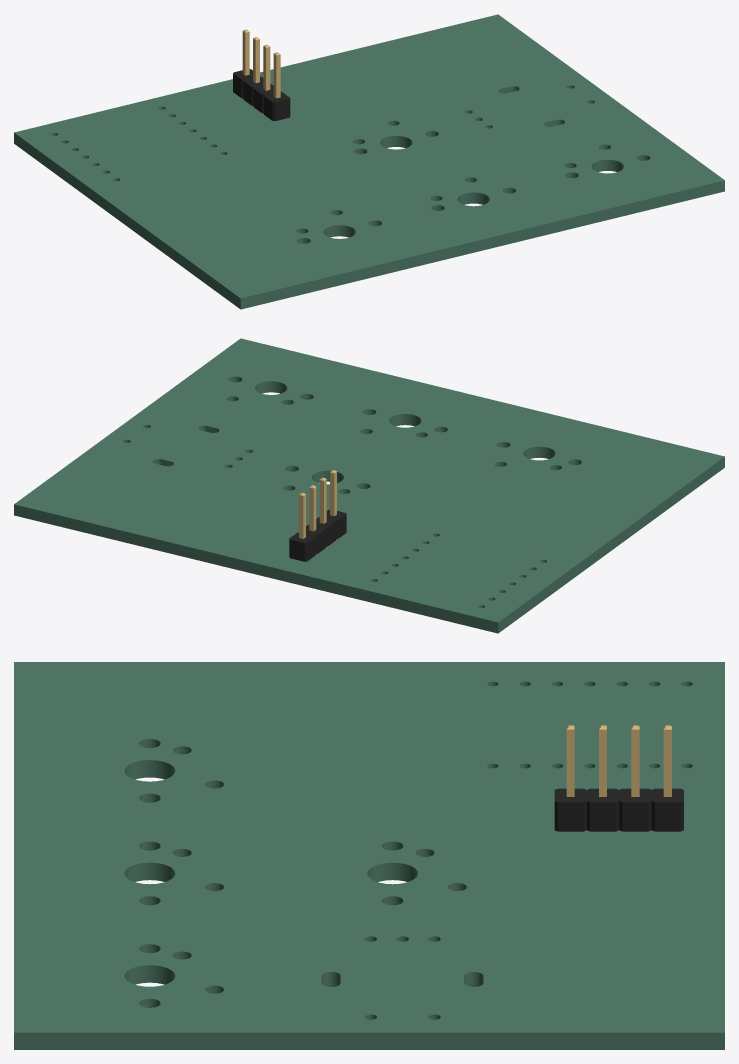
The model's file is M.Seade Keypad.glb.
3 renders of one model, top to bottom at view 1: azimuth 30°, elevation 25°; view 2: azimuth 150°, elevation 25°; view 3: azimuth 270°, elevation 25°, orthographic. The views are drawn at different scales.
Parts seen in each view (by area): view 1: =>[0:1:1:3], J1; view 2: =>[0:1:1:3], J1; view 3: =>[0:1:1:3], J1.
Part boxes in pixels (x1=…): =>[0:1:1:3]: x1=14, y1=14, x2=724, y2=309; J1: x1=233, y1=29, x2=290, y2=120; =>[0:1:1:3]: x1=14, y1=338, x2=724, y2=633; J1: x1=289, y1=470, x2=346, y2=561; =>[0:1:1:3]: x1=14, y1=662, x2=724, y2=1049; J1: x1=554, y1=725, x2=683, y2=831.
Bounding box in the file's own units: 0.0688 × 0.0115 × 0.0558.
